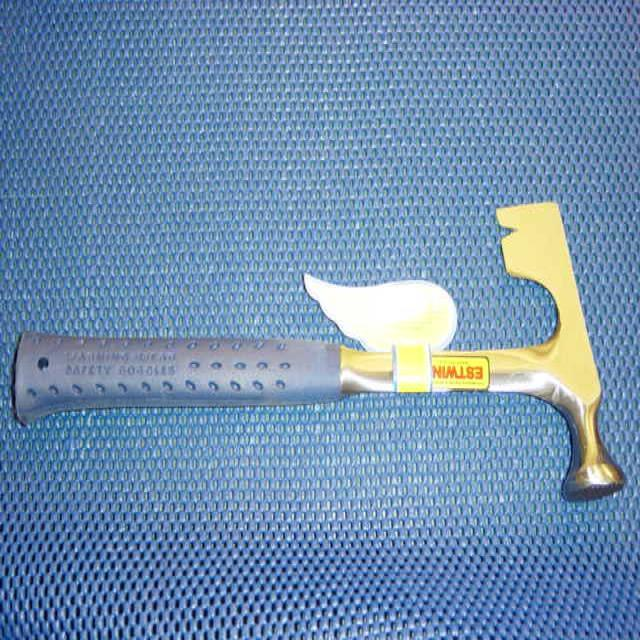hammer: (3, 192, 633, 516)
